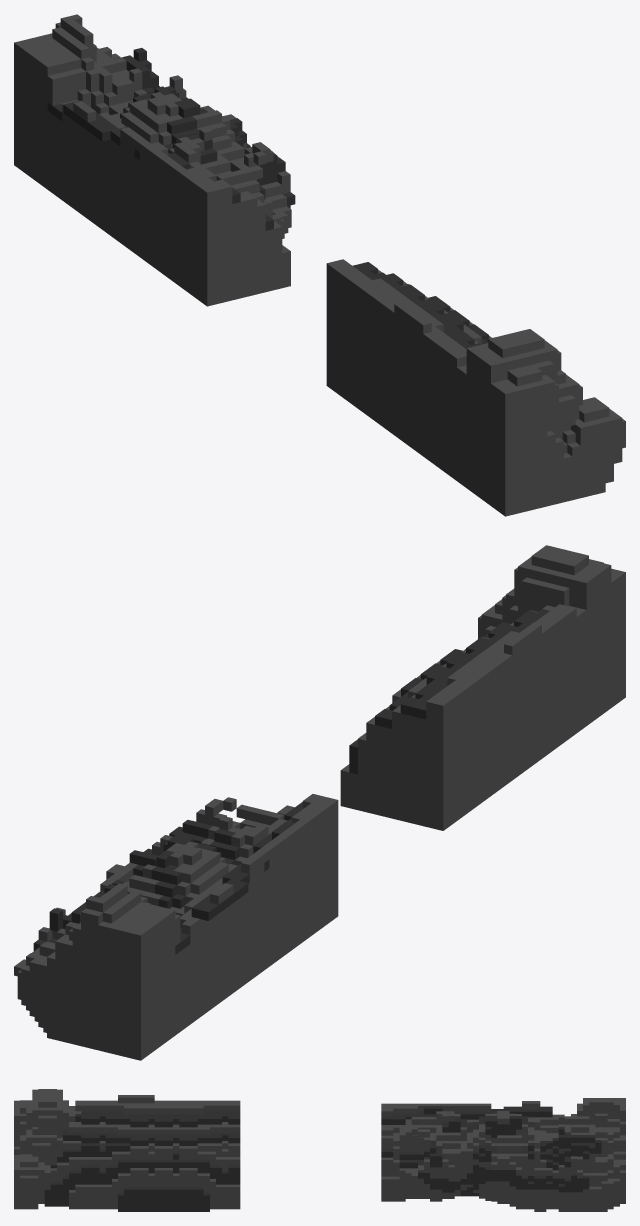
The model's file is Medieval Assets-232-Transition - Elevated Region Stairs.obj.
The picture shows the model from 3 angles, top to bottom: view 1: azimuth 30°, elevation 25°; view 2: azimuth 150°, elevation 25°; view 3: azimuth 270°, elevation 25°; orthographic projection. The views are drawn at different scales.
Parts seen in each view (by area): view 1: Transition - Elevated Region Stairs; view 2: Transition - Elevated Region Stairs; view 3: Transition - Elevated Region Stairs.
Boxes of the visible parts, box(x1,y1,x2,y2) form: Transition - Elevated Region Stairs: box(14, 14, 625, 516); Transition - Elevated Region Stairs: box(14, 545, 625, 1060); Transition - Elevated Region Stairs: box(14, 1089, 625, 1211).
Size of the model in its own units: 1.7 by 1.7 by 10.
1 material, 1 textured.
